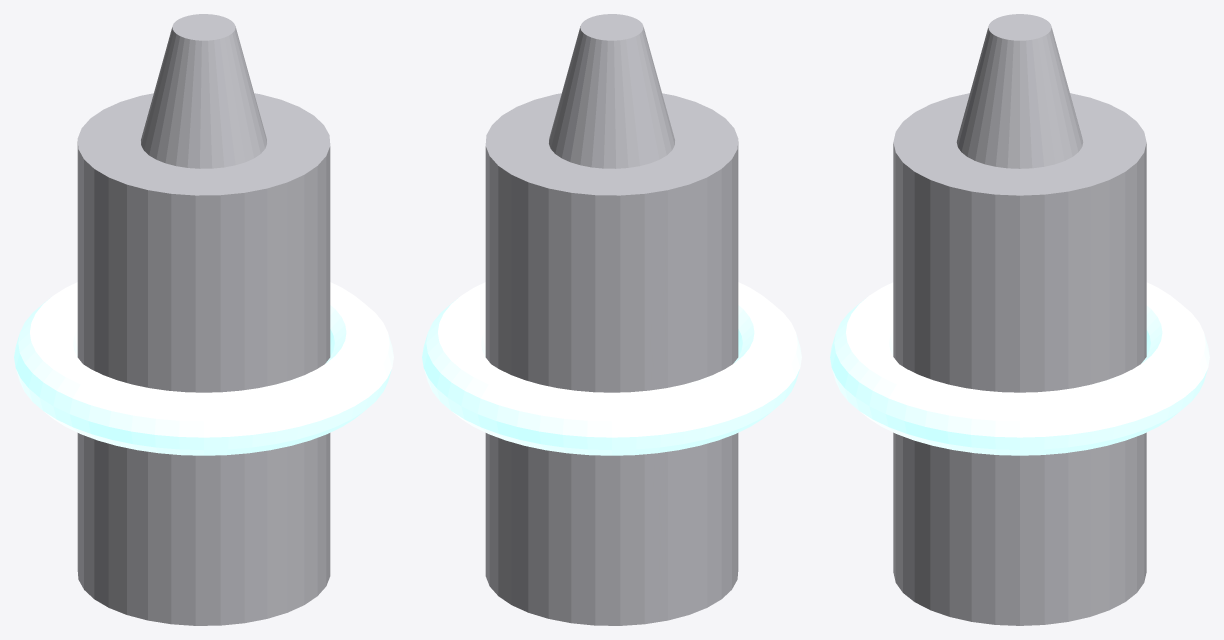
The model's file is super_spray.glb.
The picture shows the model from 3 angles, left to right: view 1: azimuth 30°, elevation 25°; view 2: azimuth 150°, elevation 25°; view 3: azimuth 270°, elevation 25°; orthographic projection.
Parts seen in each view (by area): view 1: Cylinder, Torus, Cone; view 2: Cylinder, Torus, Cone; view 3: Cylinder, Torus, Cone.
Part boxes in pixels (<box>): Cylinder: <box>77,93,330,625</box>; Torus: <box>14,282,393,455</box>; Cone: <box>141,14,266,168</box>; Cylinder: <box>485,93,738,625</box>; Torus: <box>422,282,801,455</box>; Cone: <box>549,14,674,168</box>; Cylinder: <box>893,93,1146,625</box>; Torus: <box>830,282,1209,455</box>; Cone: <box>956,14,1083,168</box>.
Size of the model in its own units: 0.24 by 0.38 by 0.24.
